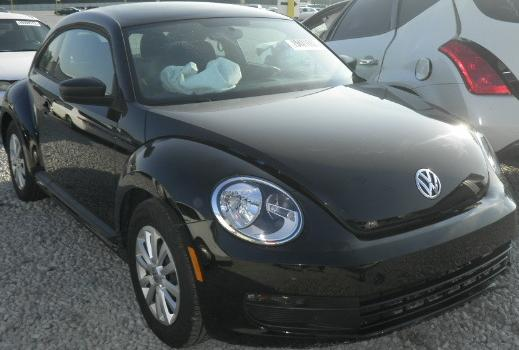front_view: (214, 128, 515, 330)
headlight: (199, 169, 308, 249)
side_glass: (26, 31, 136, 115)
